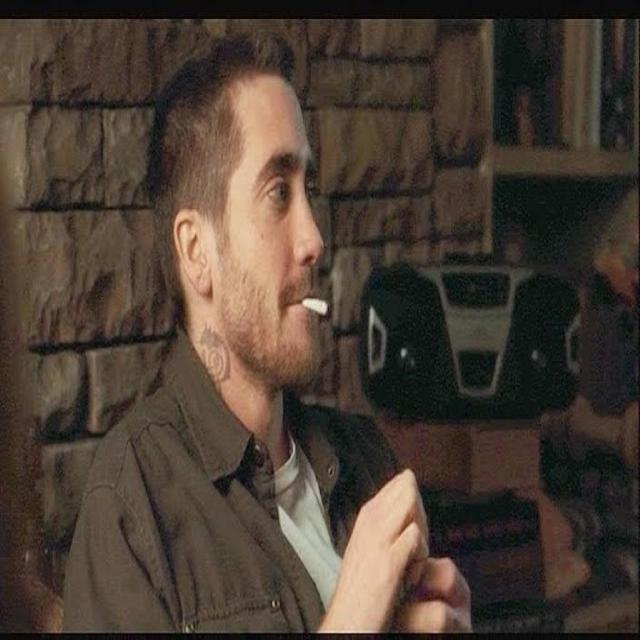smoking: (152, 29, 350, 411)
